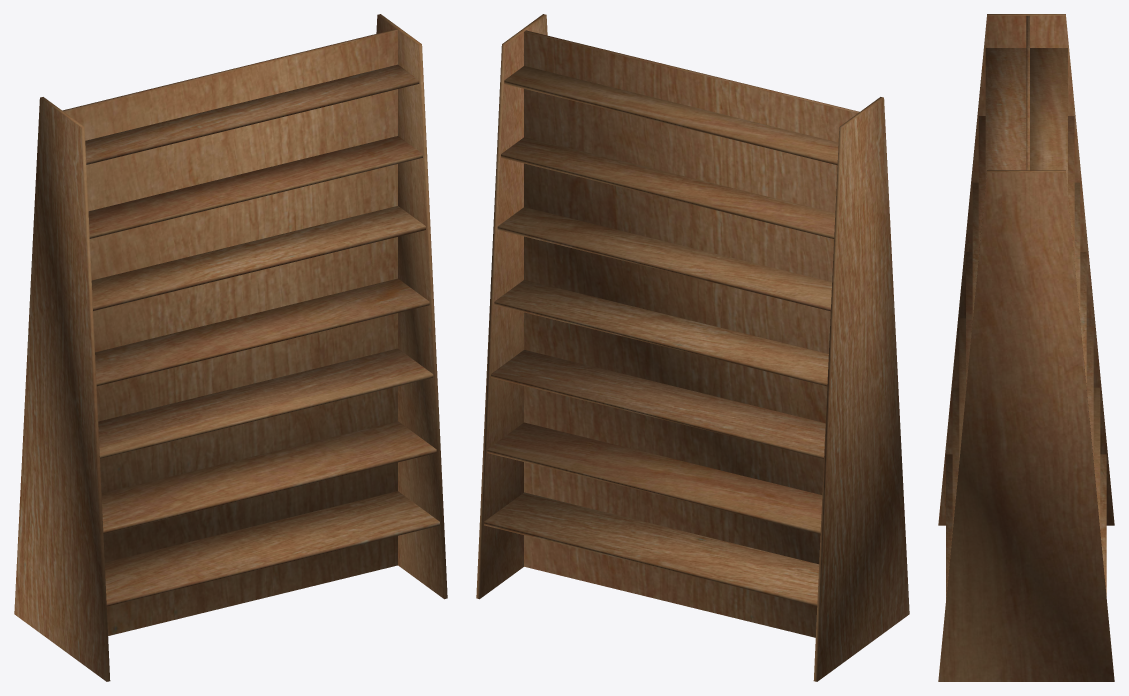
File: bookshelves_01.glb
The picture shows the model from 3 angles, left to right: view 1: azimuth 30°, elevation 25°; view 2: azimuth 150°, elevation 25°; view 3: azimuth 270°, elevation 25°; orthographic projection. The views are drawn at different scales.
Parts seen in each view (by area): view 1: Cube.002; view 2: Cube.002; view 3: Cube.002.
Part boxes in pixels (bbox=[...]): Cube.002: bbox=[14, 14, 447, 681]; Cube.002: bbox=[476, 14, 909, 681]; Cube.002: bbox=[938, 14, 1114, 681].
Bounding box in the file's own units: 10 × 15.03 × 4.7.
1 material, 1 textured.
